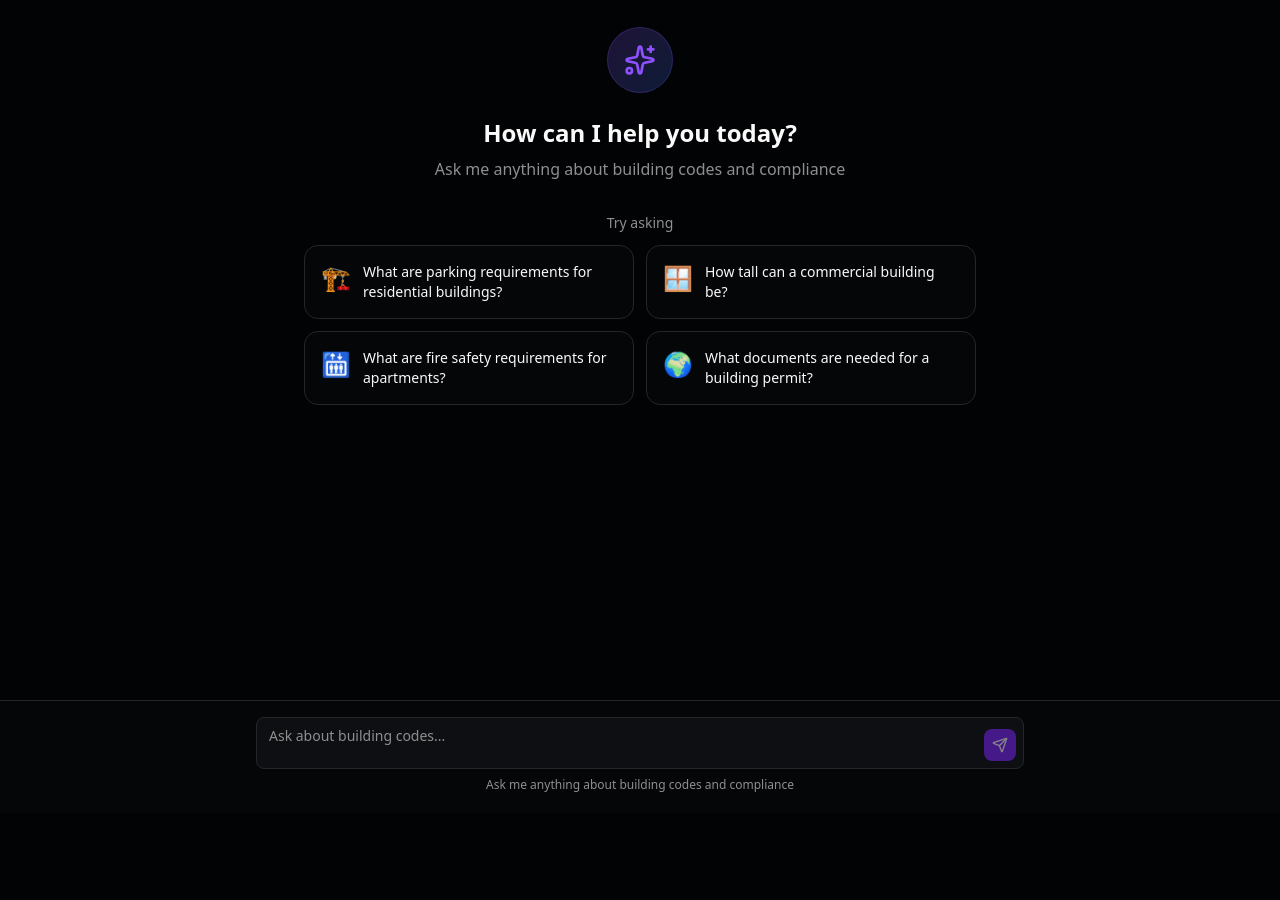
Test: ChatInterface assistant-message save sync (B17) › shows the save-failed indicator when assistant-message save returns success:false
The image size is (1280, 900).
Type "tell me about fire safety" into the text box with placeholder "Ask about building codes...".
click(640, 743); type("tell me about fire safety")  # box [256,717,1024,769]
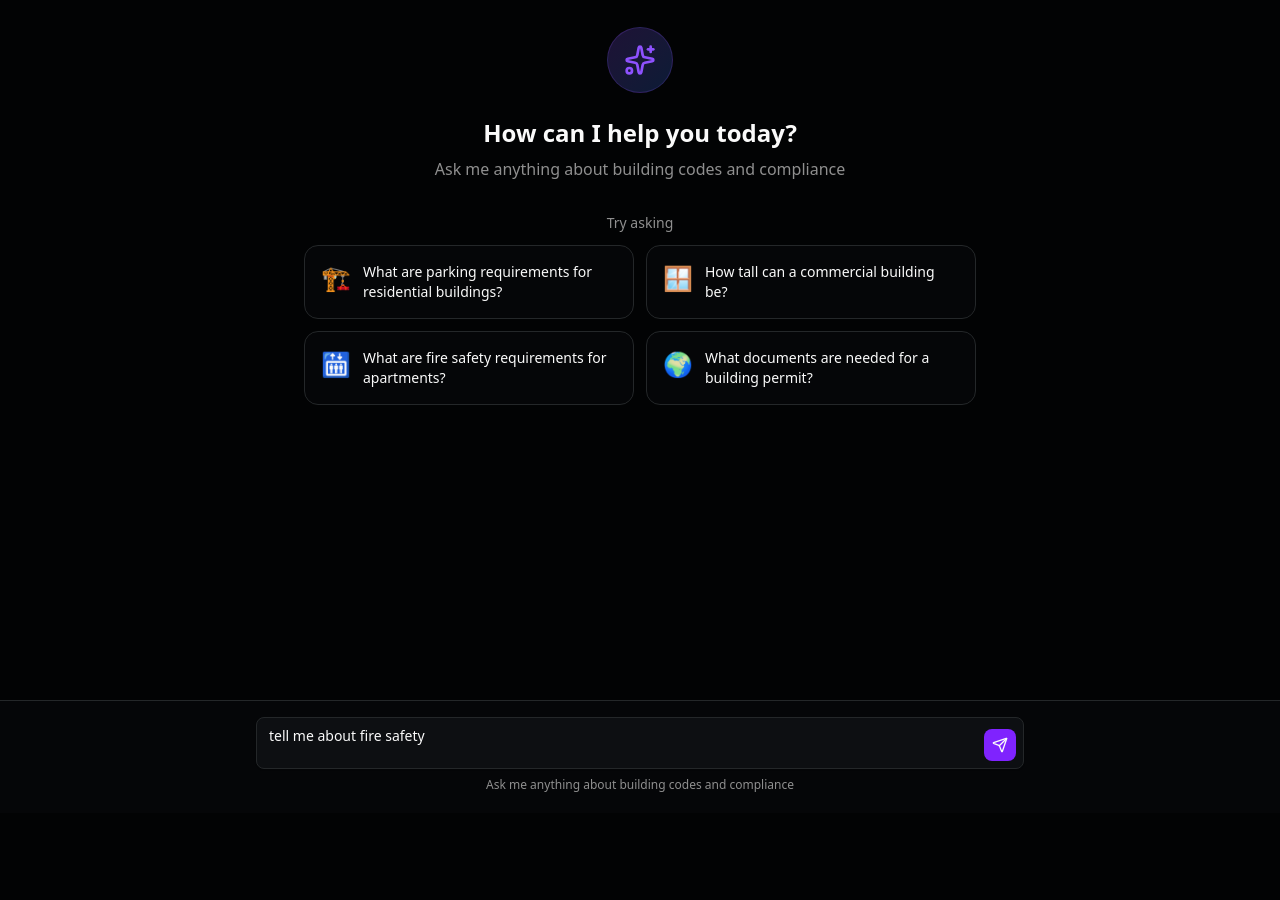
Click the 5th button.
click(1000, 745)  # box [984,729,1016,761]
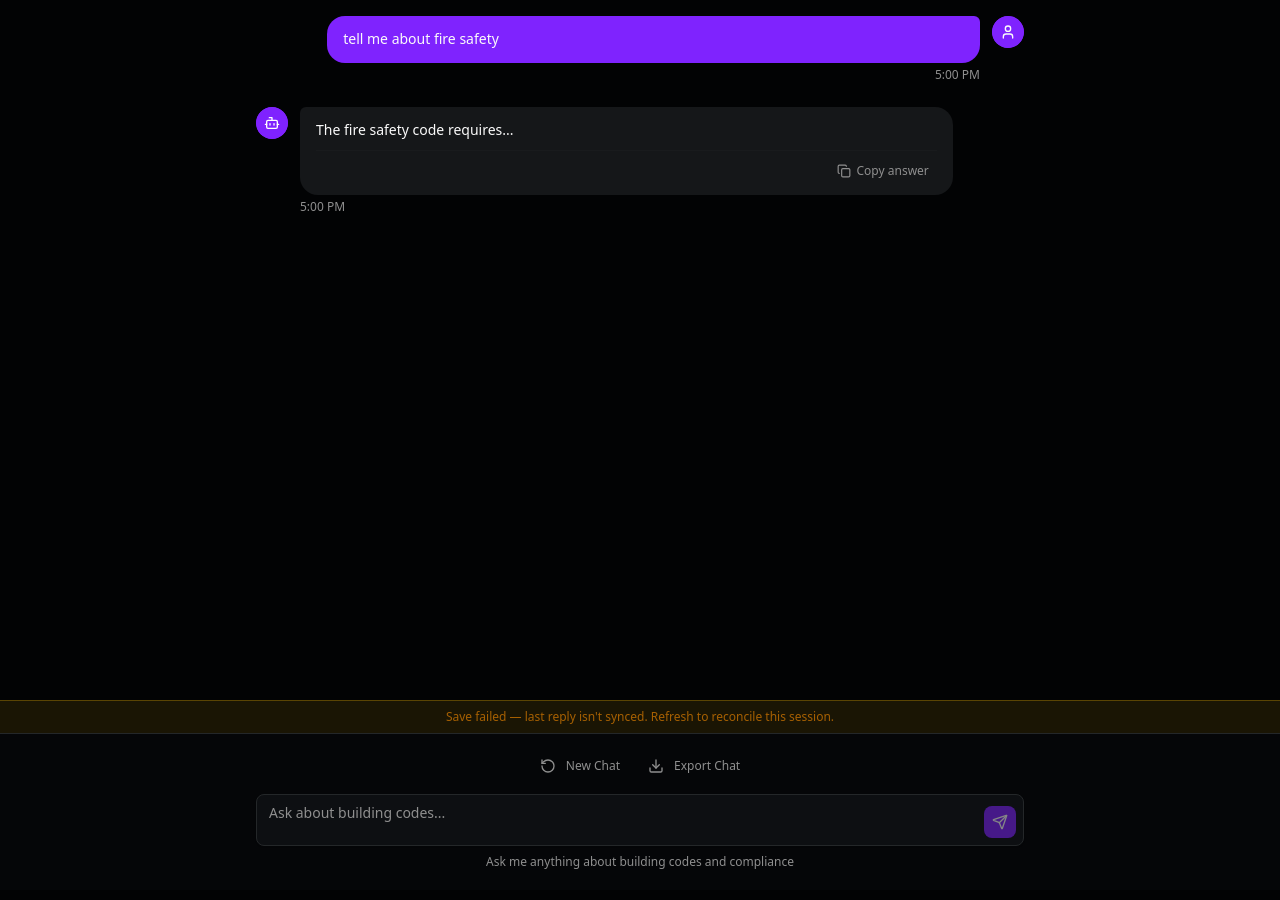
Expected: the text "Save failed" is shown, [446,708,834,725]
